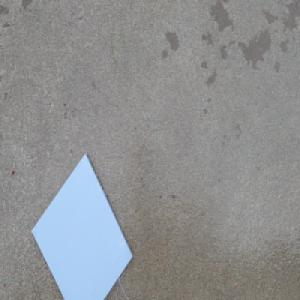PaintChip: (31, 153, 133, 300)
